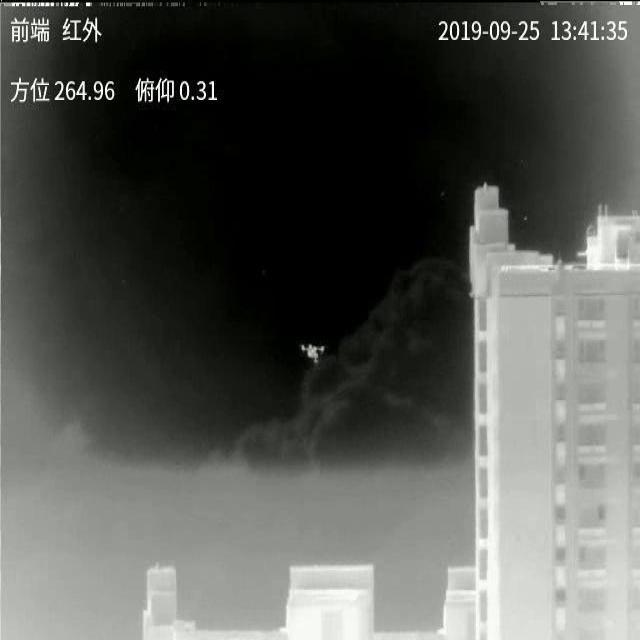drone: (301, 344, 324, 363)
